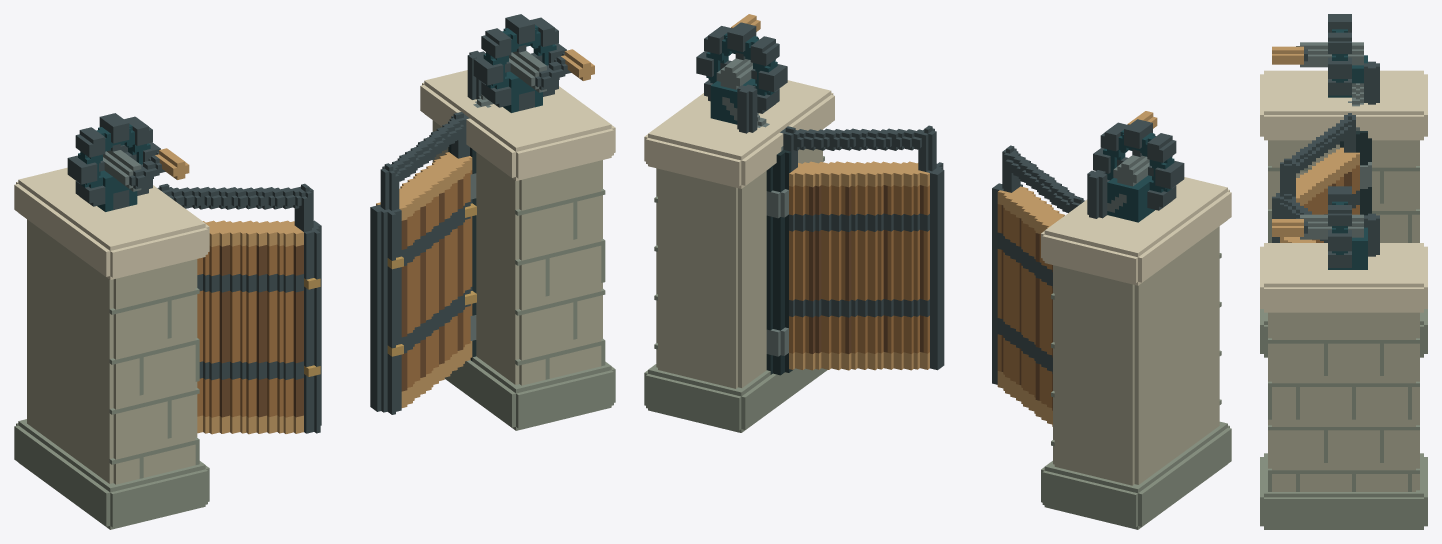
The model's file is lock_gate.glb.
The picture shows the model from 3 angles, left to right: view 1: azimuth 30°, elevation 25°; view 2: azimuth 150°, elevation 25°; view 3: azimuth 270°, elevation 25°; orthographic projection. The views are drawn at different scales.
Visible parts, largest first — view 1: lock_gate; view 2: lock_gate; view 3: lock_gate.
Boxes of the visible parts, <box> form: lock_gate: <box>14,14,615,529</box>; lock_gate: <box>644,14,1231,529</box>; lock_gate: <box>1260,14,1427,529</box>.
Size of the model in its own units: 7.68 by 5.28 by 2.52.
